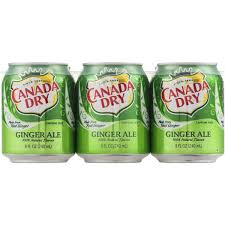Lata: (1, 60, 77, 166)
